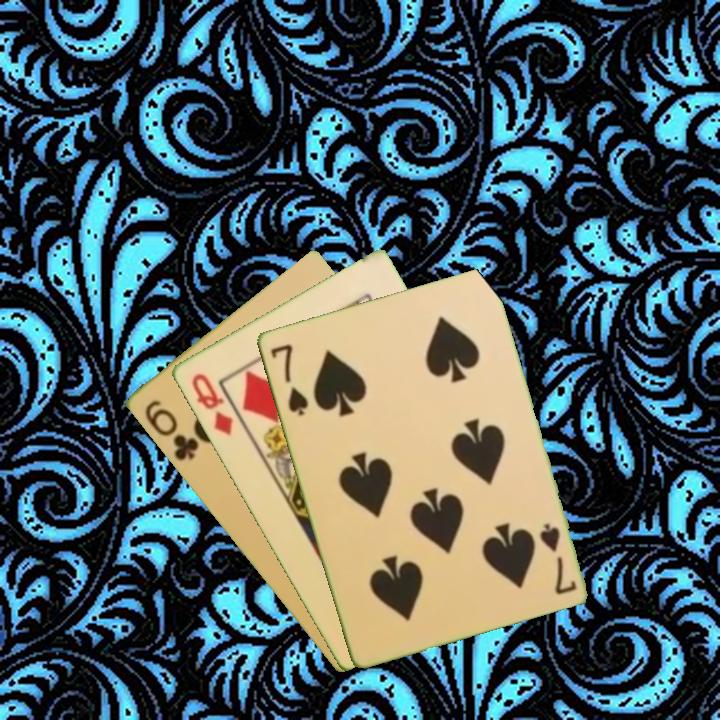6c: (140, 396, 202, 464)
7s: (266, 340, 311, 419), (535, 519, 579, 597)
Qd: (187, 369, 236, 438)
